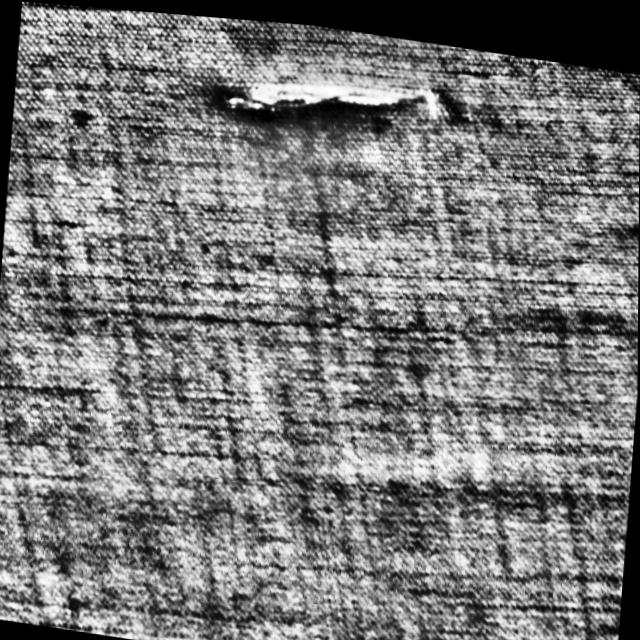Stitch: (209, 47, 460, 142)
